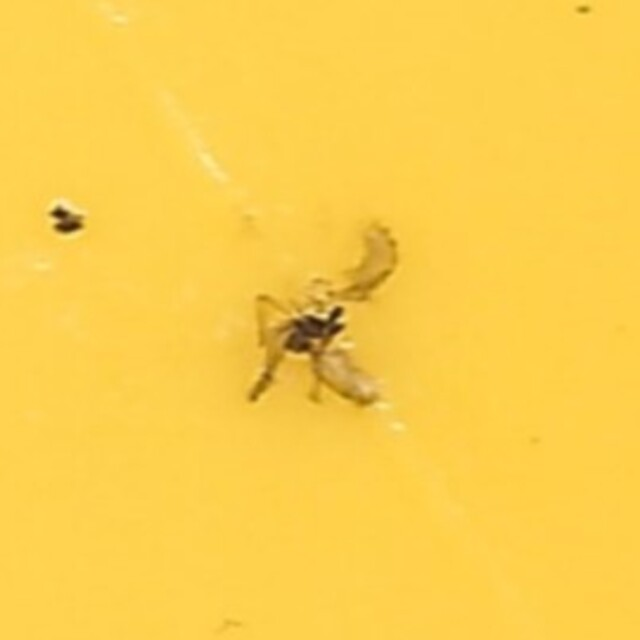Nematocera: (237, 223, 403, 417)
